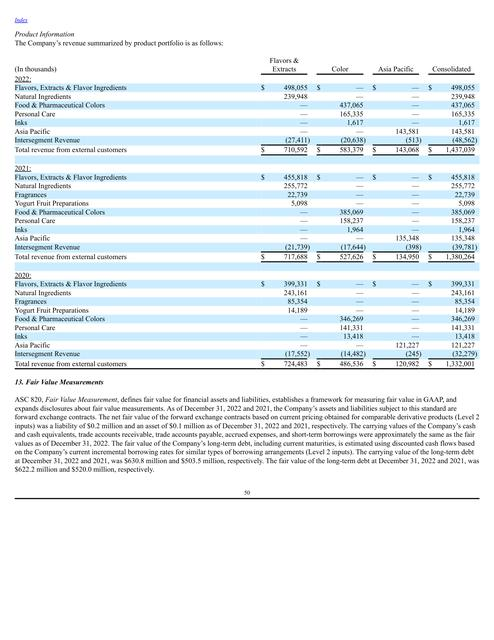box: (13, 57, 481, 371)
